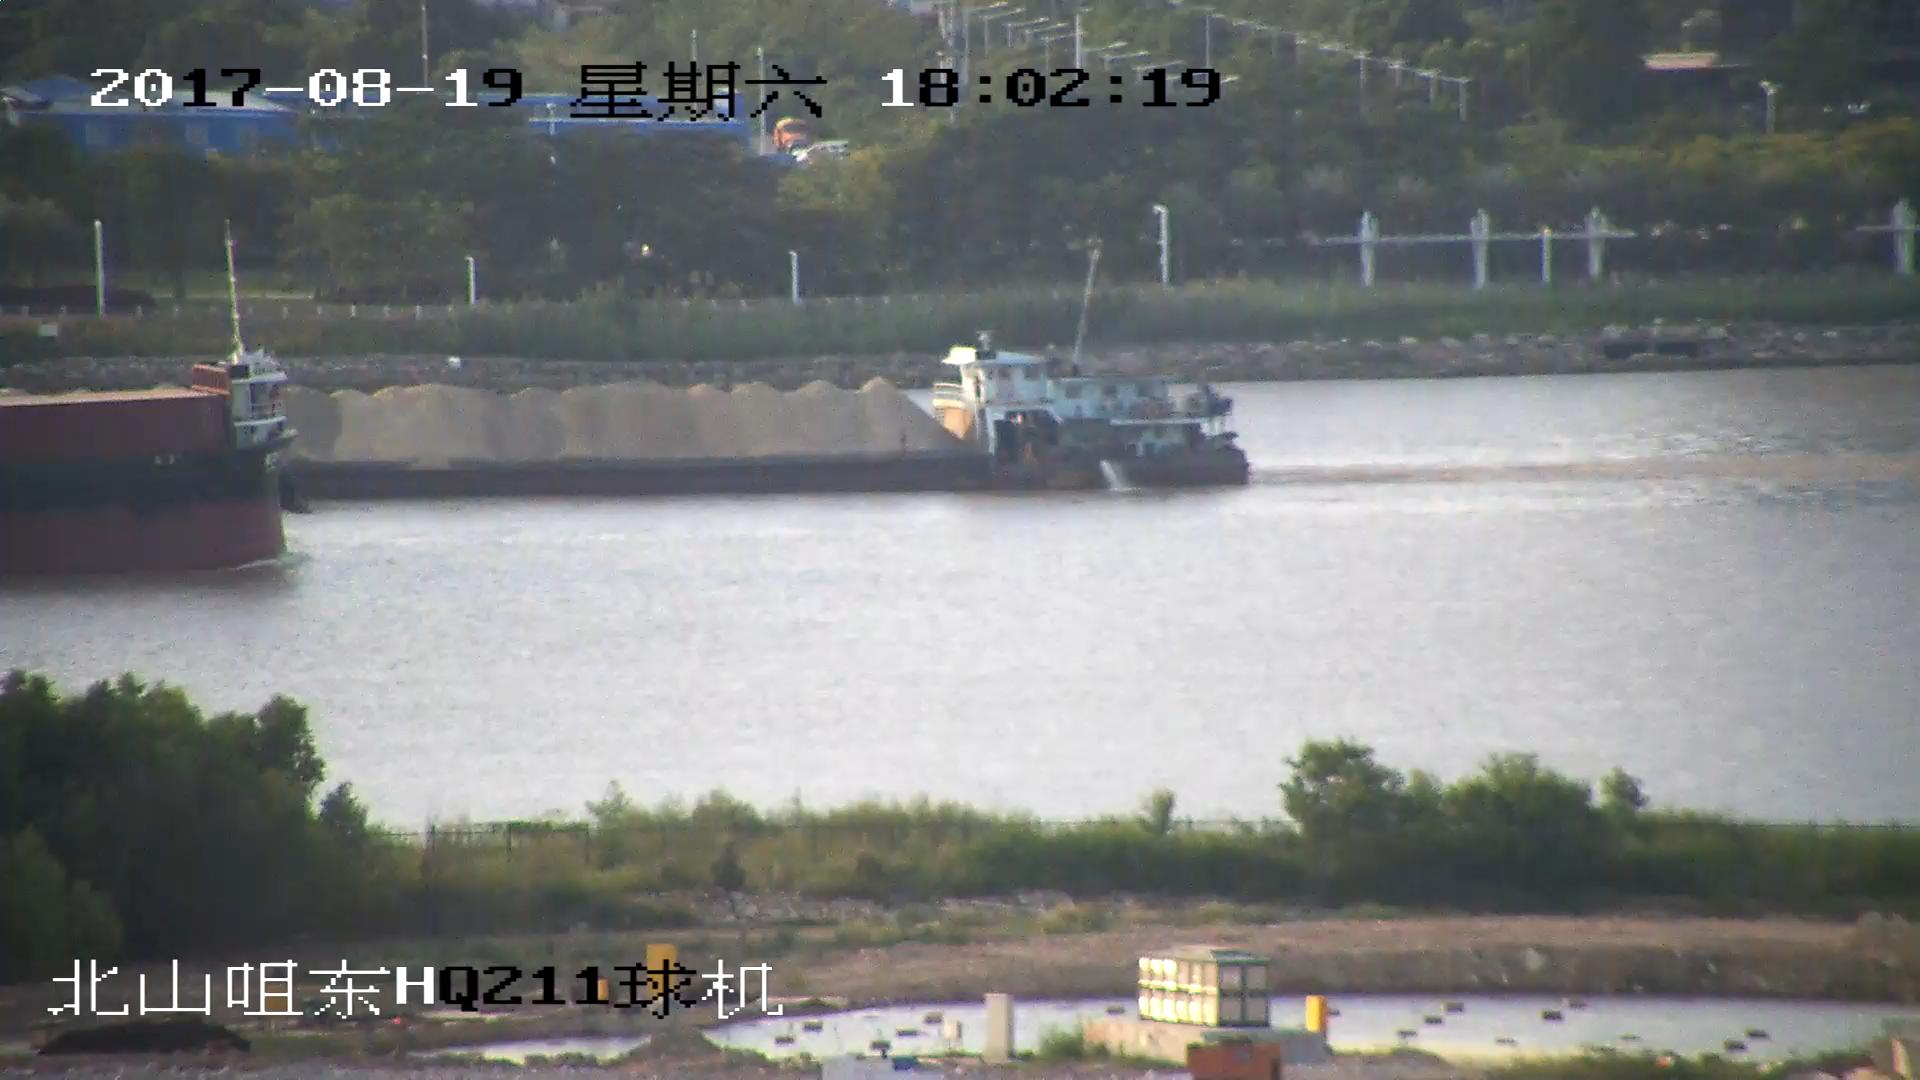container ship: (1, 241, 306, 576)
ore carrier: (281, 331, 1264, 504)
